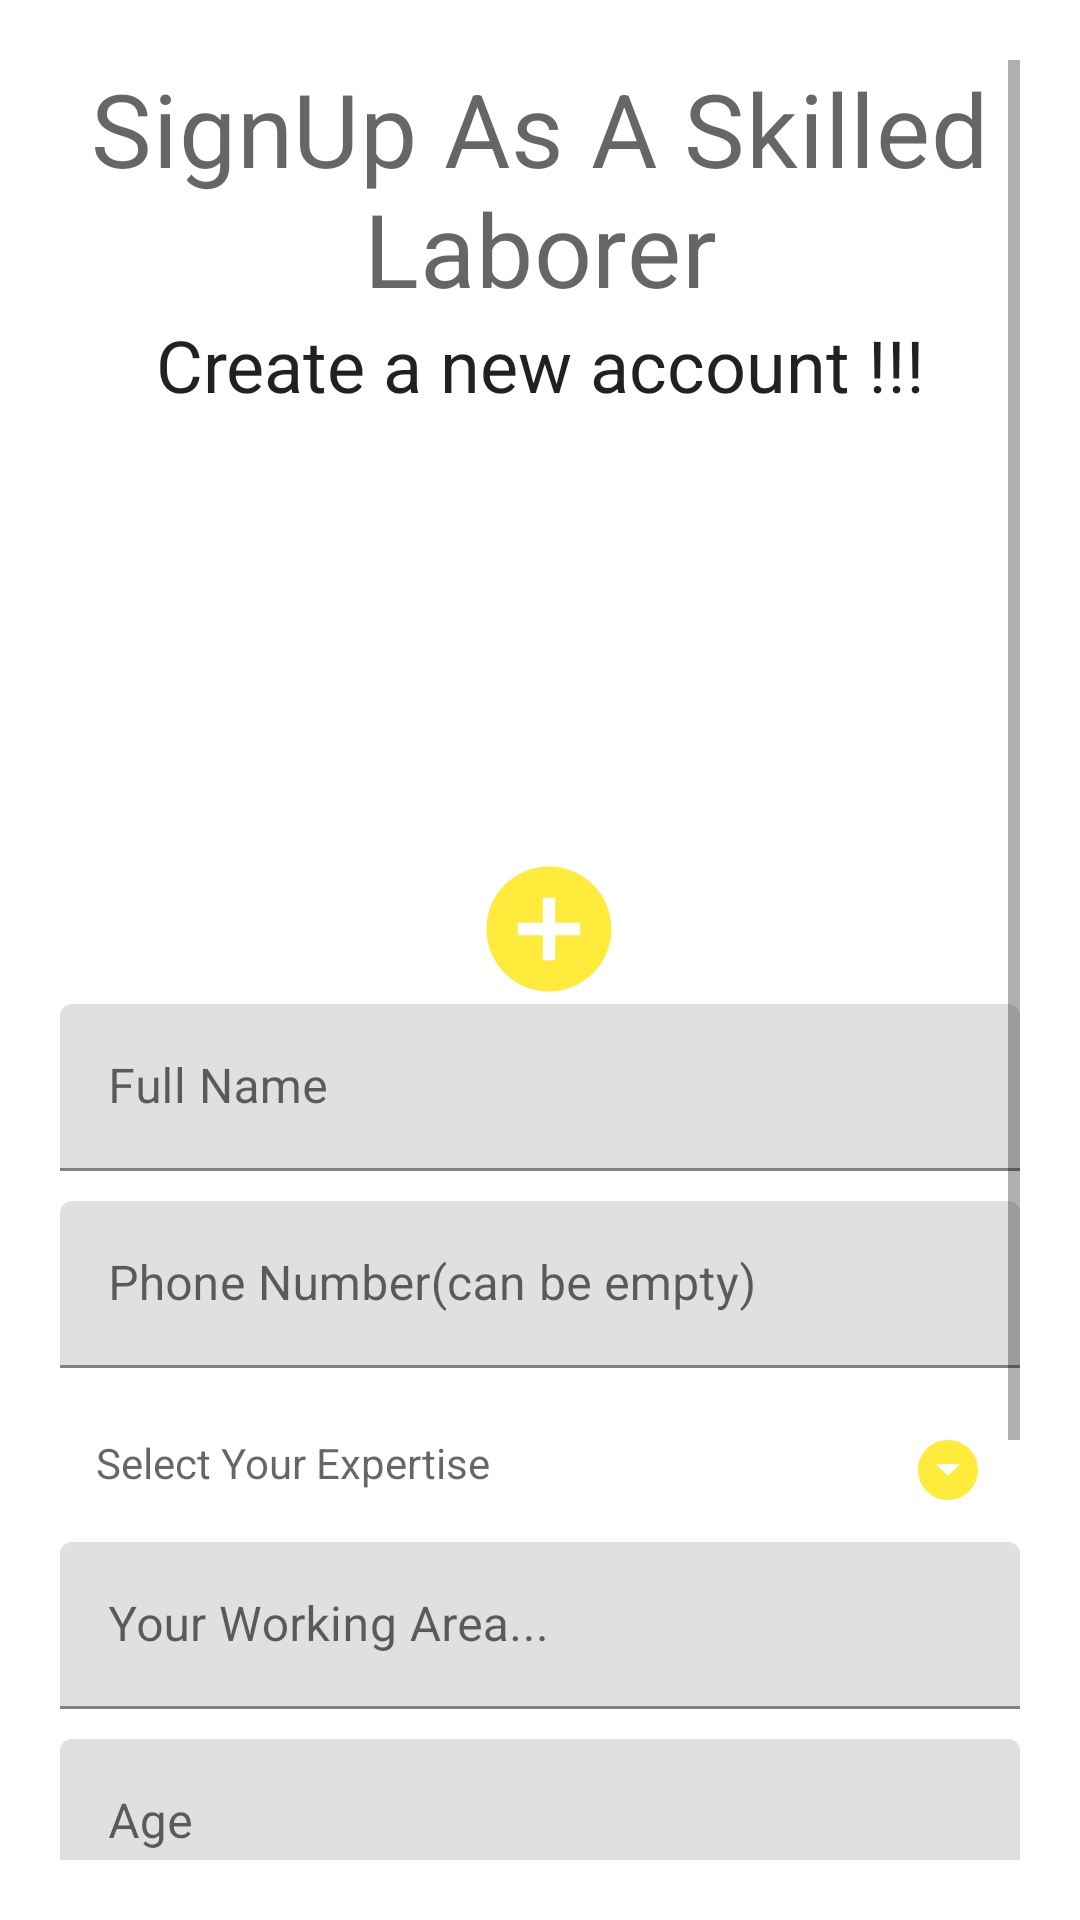

Icons on this 1080*1920 Android screen, each with its box as (x1, y1, x2, y2):
add circle: (486, 866, 612, 992)
